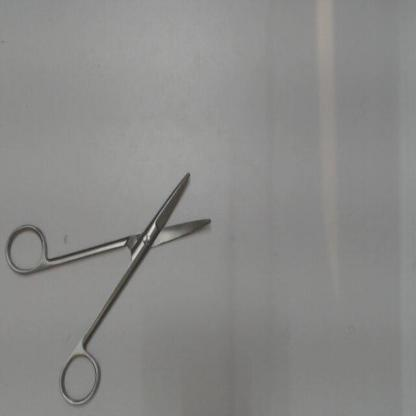Curved Mayo Scissors: (3, 158, 222, 413)
